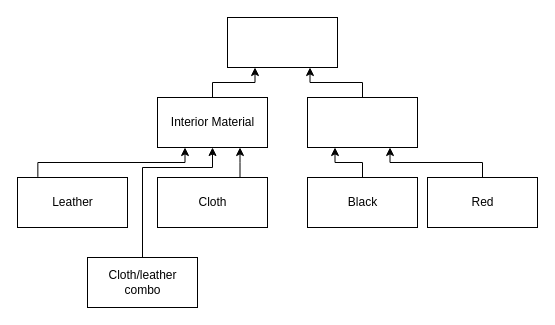
Some shapes in this 555 by 325 pixel diagram are drawn without their labels. The shapes that lost their labels are listed below. From the top down, each one's box as (x1, y1, x2, y2) in pixels, then its label:
(226, 16, 338, 68): Car Interior
(306, 96, 418, 148): Interior Color
